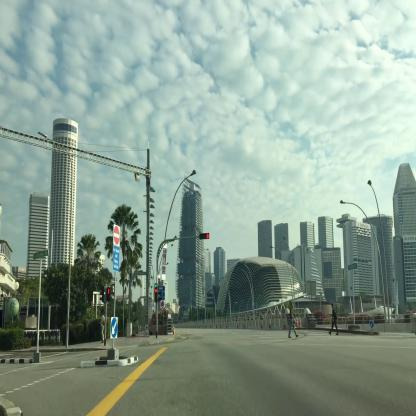red_traffic_light: (199, 233, 209, 239), (154, 288, 156, 302)
